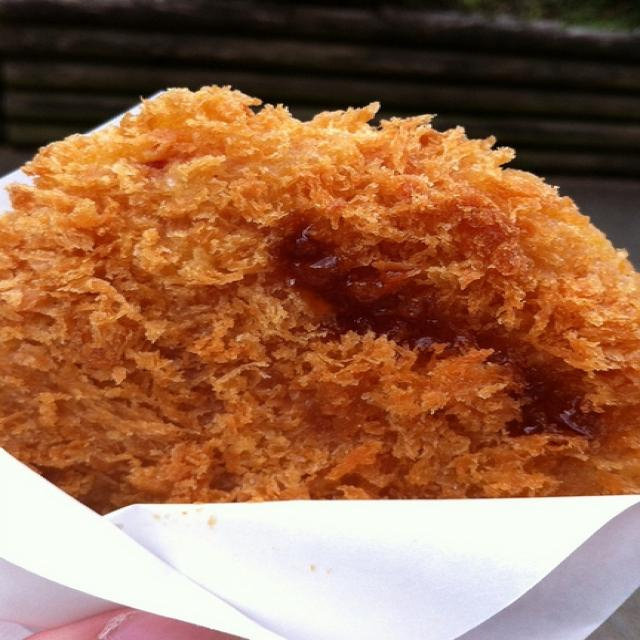炸货点心: (6, 58, 621, 589)
